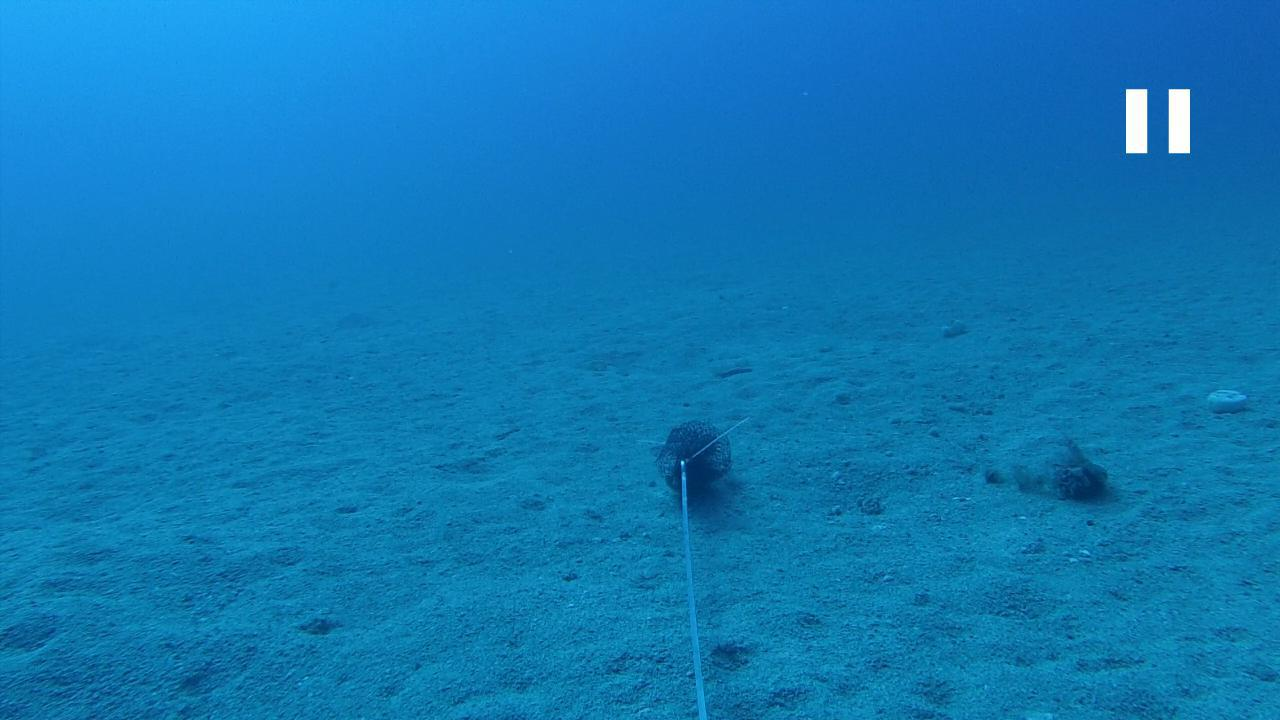bothus: (704, 353, 757, 382)
